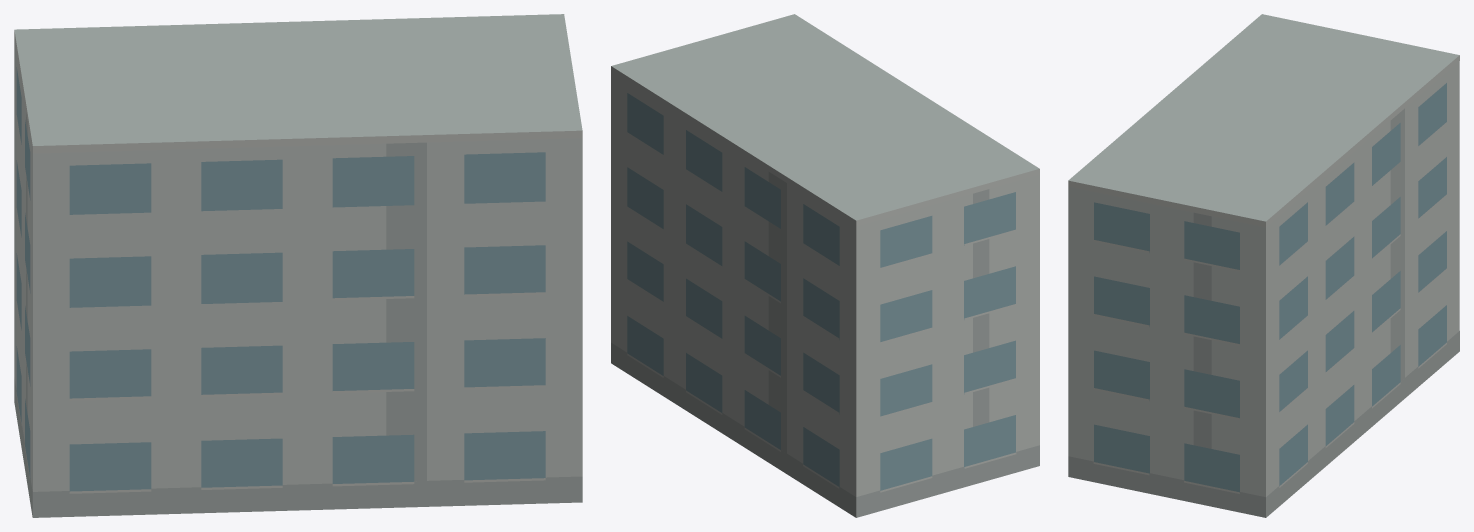
The model's file is residential-2dcabf6b-eef6-4af1-9ae0-f758d0c99ce3.glb.
3 renders of one model, left to right at view 1: azimuth 30°, elevation 25°; view 2: azimuth 150°, elevation 25°; view 3: azimuth 270°, elevation 25°, orthographic. The views are drawn at different scales.
Visible parts, largest first — view 1: residential-2dcabf6b-eef6-4af1-9ae0-f758d0c99ce3.tmp; view 2: residential-2dcabf6b-eef6-4af1-9ae0-f758d0c99ce3.tmp; view 3: residential-2dcabf6b-eef6-4af1-9ae0-f758d0c99ce3.tmp.
Boxes of the visible parts, box(x1,y1,x2,y2) form: residential-2dcabf6b-eef6-4af1-9ae0-f758d0c99ce3.tmp: box(14, 14, 582, 517); residential-2dcabf6b-eef6-4af1-9ae0-f758d0c99ce3.tmp: box(611, 14, 1039, 517); residential-2dcabf6b-eef6-4af1-9ae0-f758d0c99ce3.tmp: box(1068, 14, 1459, 517).
Bounding box in the file's own units: 18.04 × 12 × 14.38.
